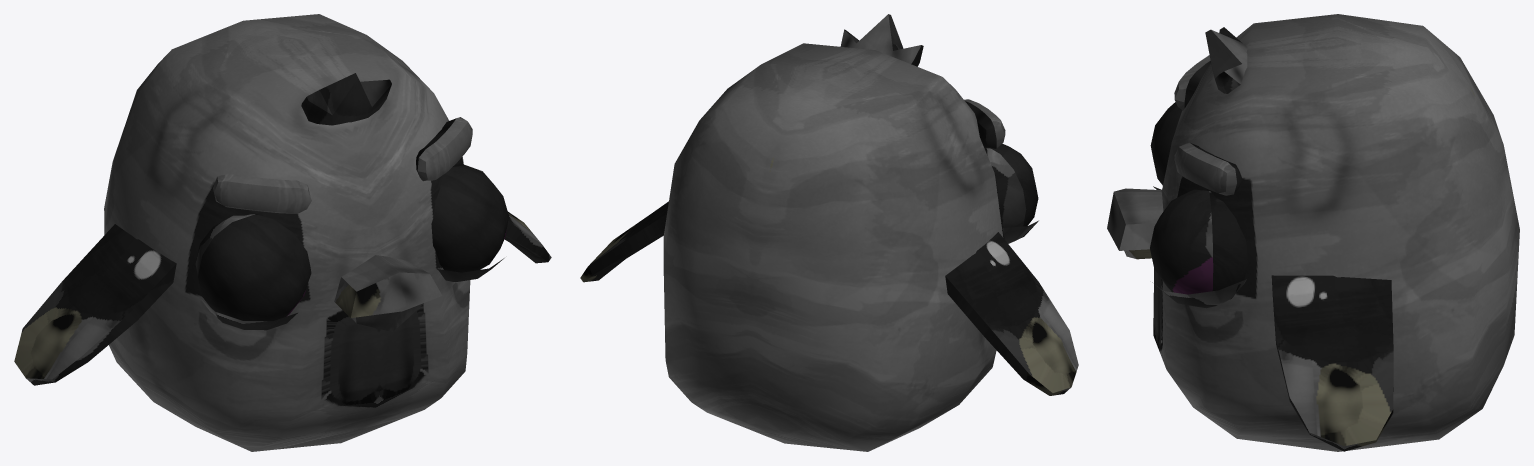
The picture shows the model from 3 angles, left to right: view 1: azimuth 30°, elevation 25°; view 2: azimuth 150°, elevation 25°; view 3: azimuth 270°, elevation 25°; orthographic projection. The views are drawn at different scales.
Parts seen in each view (by area): view 1: Penguin_Cube.106; view 2: Penguin_Cube.106; view 3: Penguin_Cube.106.
Part boxes in pixels (bbox=[...]): Penguin_Cube.106: bbox=[14, 14, 551, 451]; Penguin_Cube.106: bbox=[580, 14, 1078, 451]; Penguin_Cube.106: bbox=[1107, 14, 1519, 451].
Bounding box in the file's own units: 2.27 × 1.64 × 1.55.
Materials: 1 (1 with a texture image).
